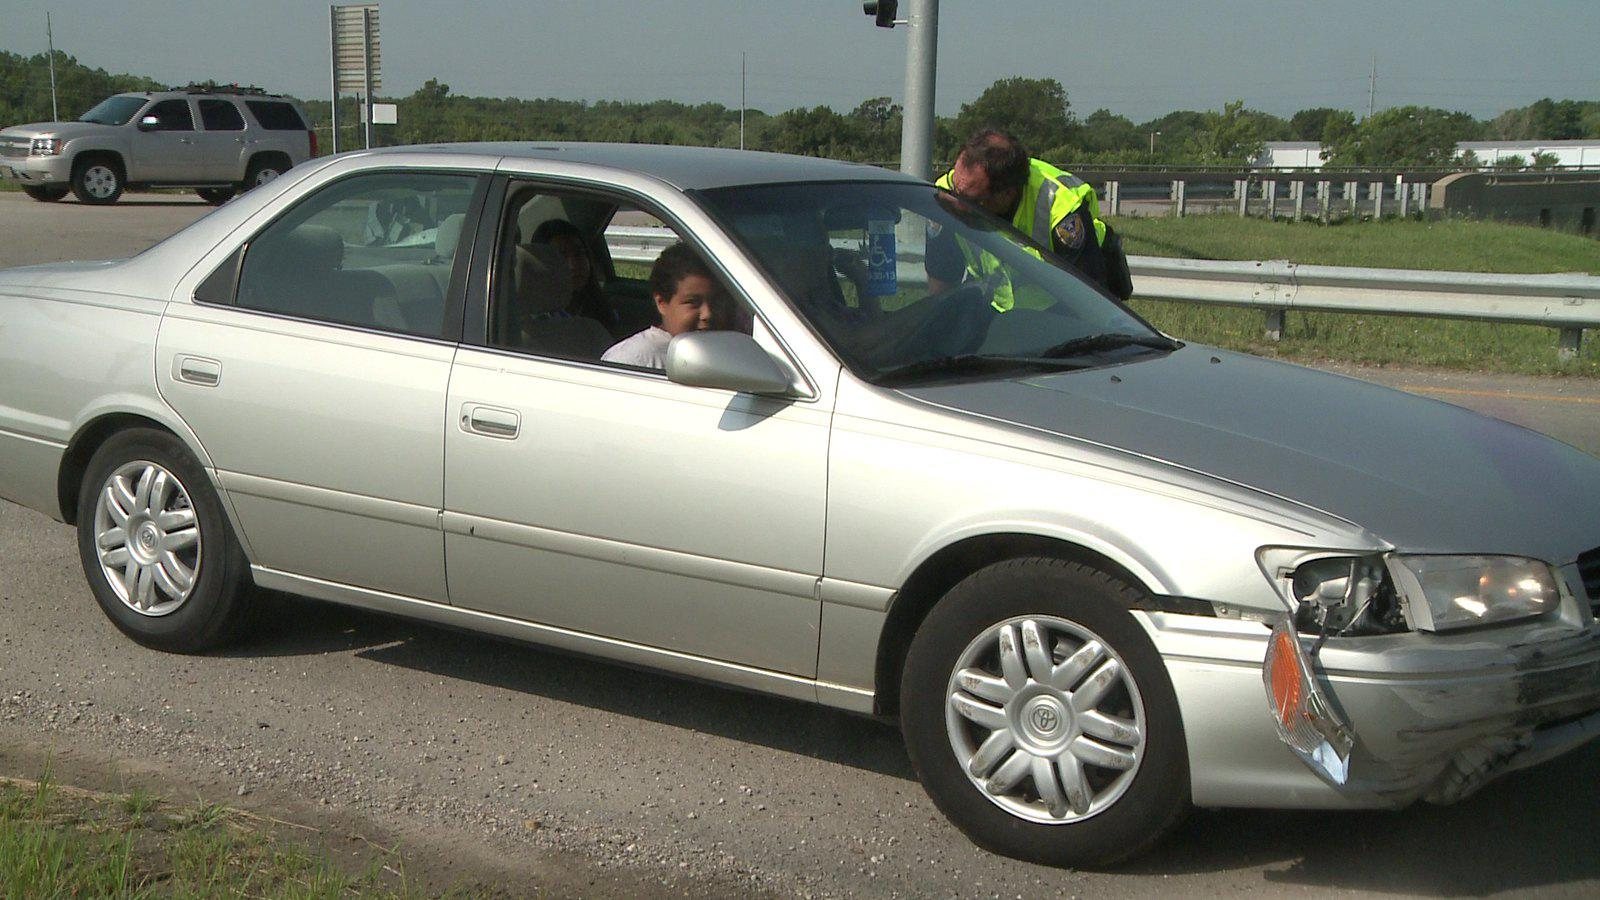Headlight-Damage: (1248, 515, 1569, 659)
front-bumper-dent: (1166, 631, 1599, 836)
